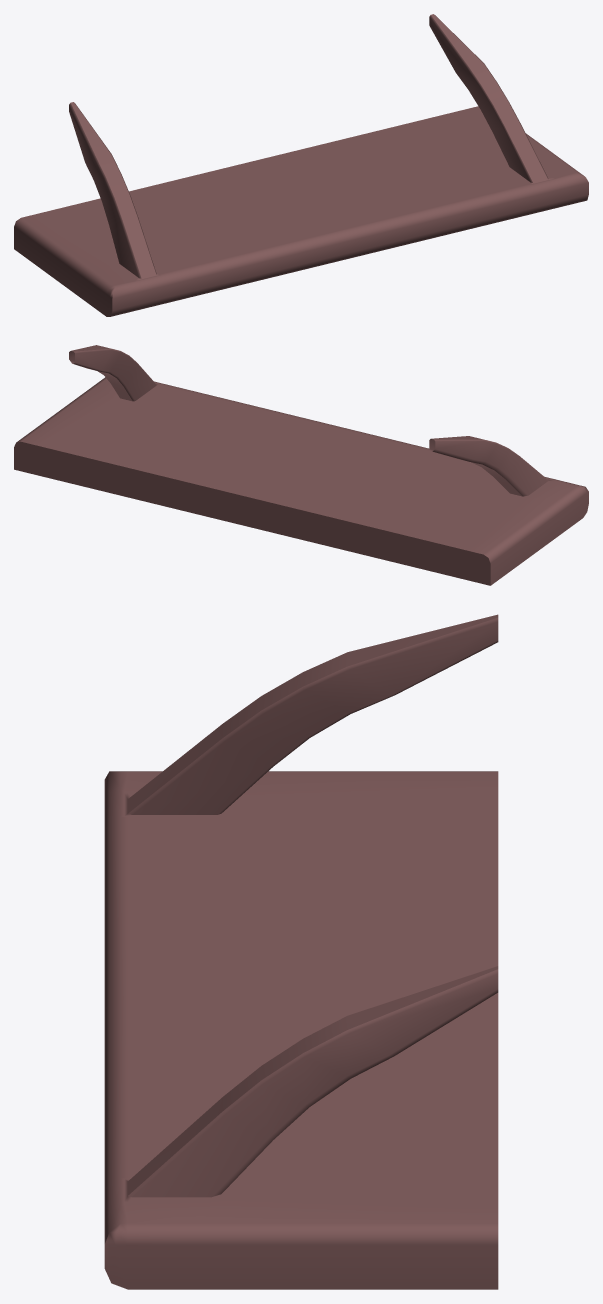
The model's file is Prop_shelf.fbx.
3 views of the same model, one above another, from view 1: azimuth 30°, elevation 25°; view 2: azimuth 150°, elevation 25°; view 3: azimuth 270°, elevation 25° (orthographic). The views are drawn at different scales.
Visible parts, largest first — view 1: Prop_Shelf_Shop; view 2: Prop_Shelf_Shop; view 3: Prop_Shelf_Shop.
Part boxes in pixels (bbox=[...]): Prop_Shelf_Shop: bbox=[14, 14, 588, 316]; Prop_Shelf_Shop: bbox=[14, 345, 588, 585]; Prop_Shelf_Shop: bbox=[104, 614, 498, 1289].
Size of the model in its own units: 153 by 40.69 by 54.76.
